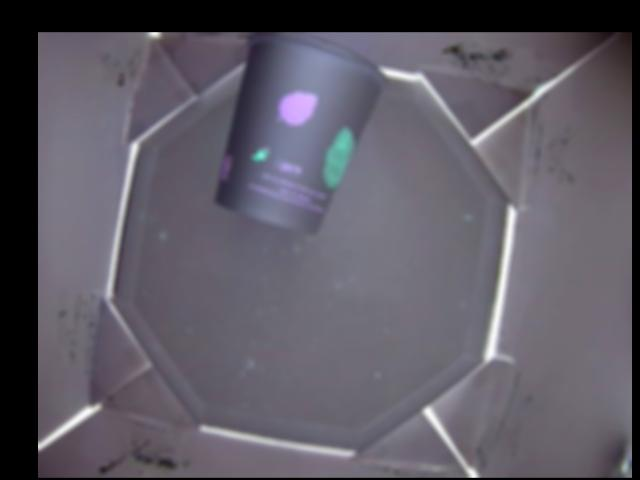Cup: (214, 33, 382, 237)
